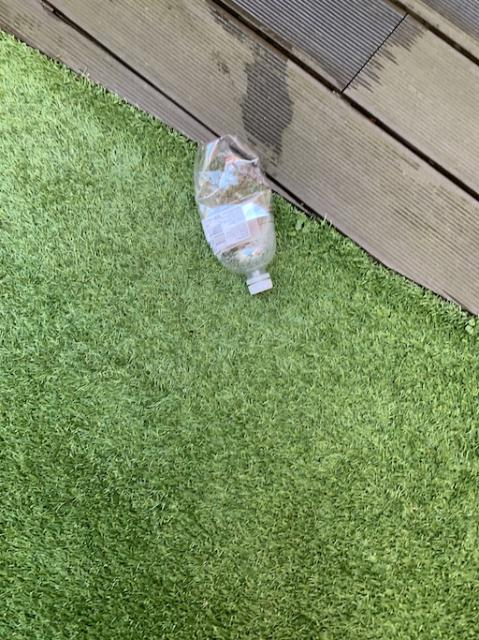plastic: (194, 134, 275, 292)
